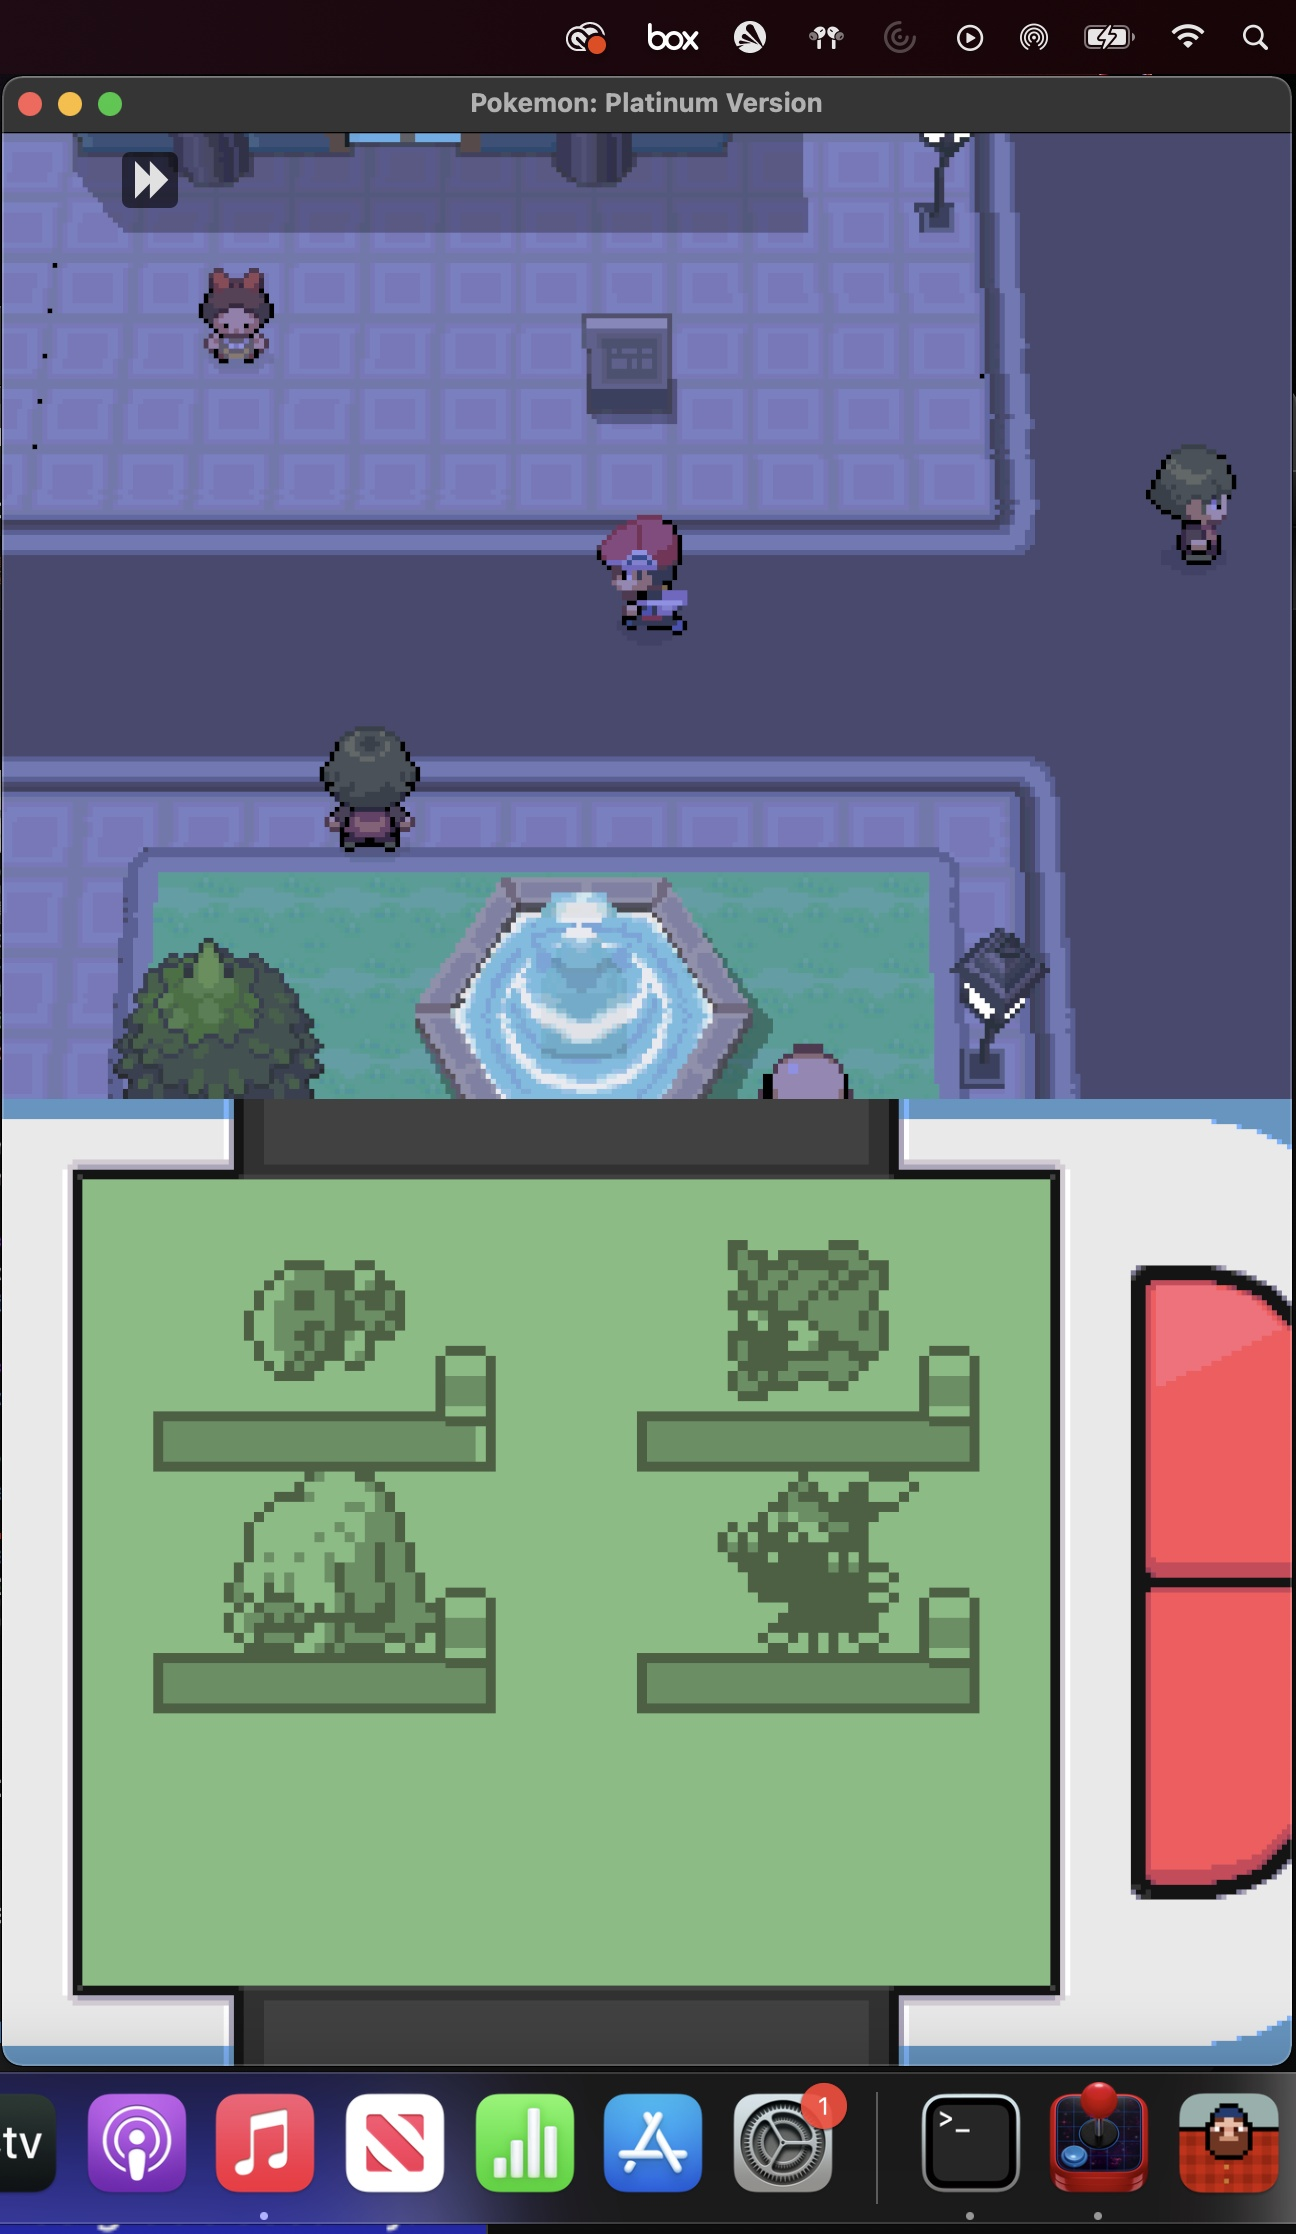player: (587, 496, 704, 639)
